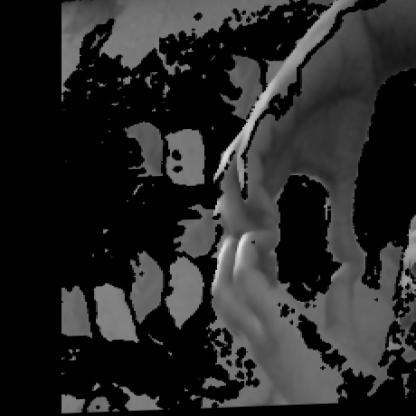heart: (215, 68, 382, 383)
